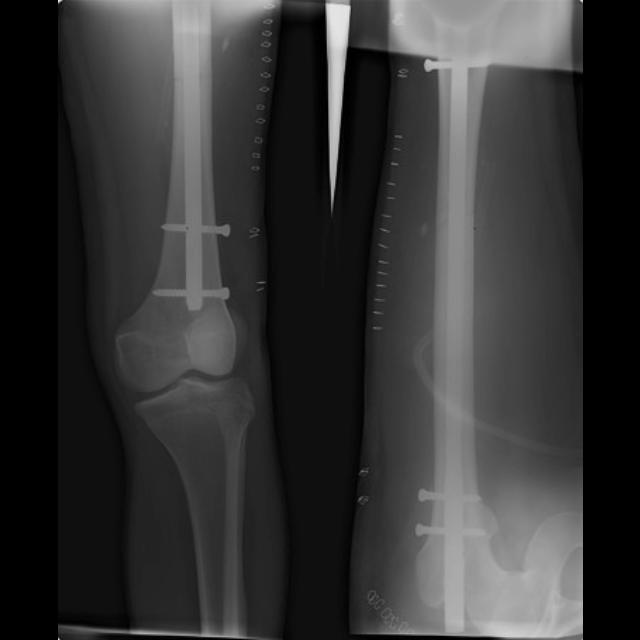Fracture: (428, 198, 478, 242), (169, 64, 213, 87)
